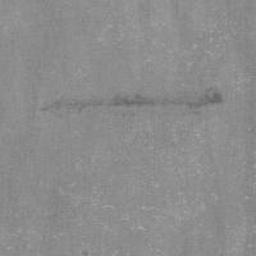Inclusion: (38, 87, 224, 115)
